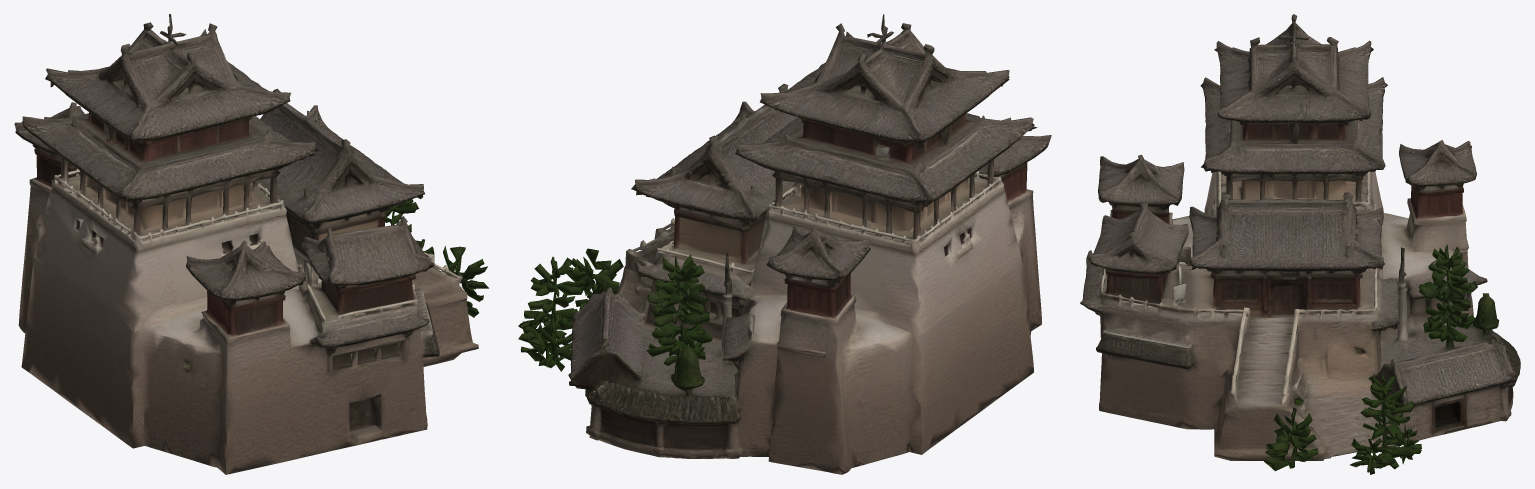
Rendered from building-longmensi.glb.
The picture shows the model from 3 angles, left to right: view 1: azimuth 30°, elevation 25°; view 2: azimuth 150°, elevation 25°; view 3: azimuth 270°, elevation 25°; orthographic projection. The views are drawn at different scales.
Parts seen in each view (by area): view 1: node_747b9433-ebda-4028-a4d0-600816fdf59f; view 2: node_747b9433-ebda-4028-a4d0-600816fdf59f; view 3: node_747b9433-ebda-4028-a4d0-600816fdf59f.
Boxes of the visible parts, x1,y1,x2,y2 form: node_747b9433-ebda-4028-a4d0-600816fdf59f: (14,14,488,474); node_747b9433-ebda-4028-a4d0-600816fdf59f: (518,14,1051,474); node_747b9433-ebda-4028-a4d0-600816fdf59f: (1080,14,1520,474).
Size of the model in its own units: 0.9652 by 0.8274 by 1.
Materials: 1 (1 with a texture image).
